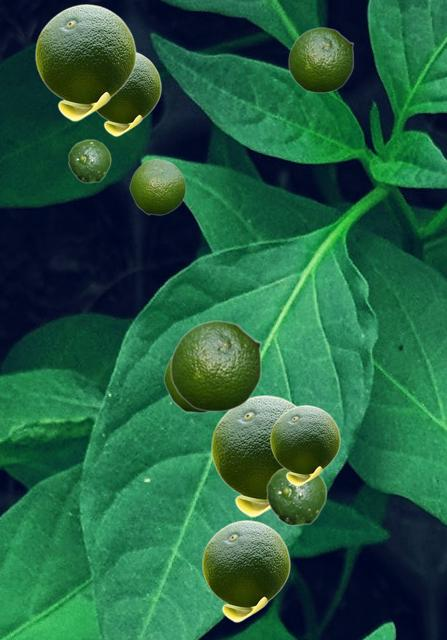calamansi: (35, 4, 135, 120), (211, 395, 296, 516), (202, 520, 289, 621), (170, 320, 261, 411), (270, 405, 339, 485), (96, 51, 160, 135), (288, 27, 353, 92), (266, 468, 326, 525), (129, 158, 185, 214), (163, 358, 209, 412), (68, 139, 110, 182)
